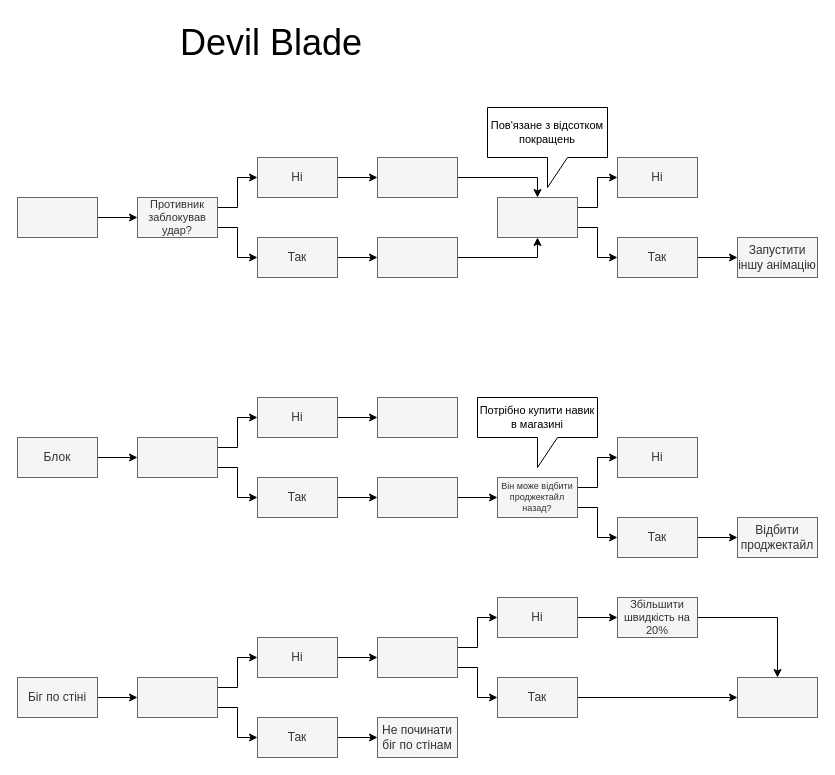
The diagram is 835 pixels wide and 775 high, and some of its shapes have lost their labels. The shapes that lost their labels are listed below. From the top down, each one's box as (x1, y1, x2, y2) in pixels, then its label:
(376, 156, 458, 198): Нанести шкоду в 1 поділку
(16, 196, 98, 238): Удар катаною
(496, 196, 578, 238): Гравець має інші анімації?
(376, 236, 458, 278): Не наносити шкоду в 1 поділку
(376, 396, 458, 438): Відключити блок на 1 секунду
(136, 436, 218, 478): Гравець зробив блок вчасно?
(376, 476, 458, 518): заблокувати удар ворожого нпс
(376, 636, 458, 678): Гравець в режимі напів демона?
(136, 676, 218, 718): Гравець доторкається землі?
(736, 676, 818, 718): Почати біг по стінам
